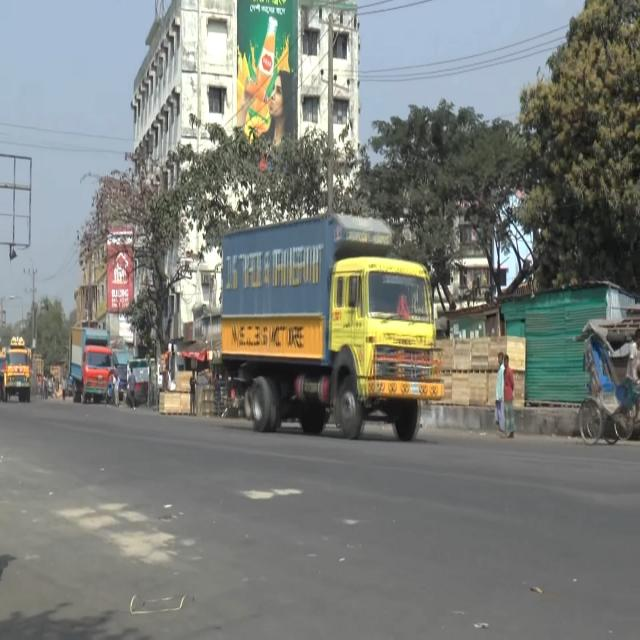truck: (219, 208, 449, 462), (65, 318, 113, 412), (0, 335, 37, 406)
